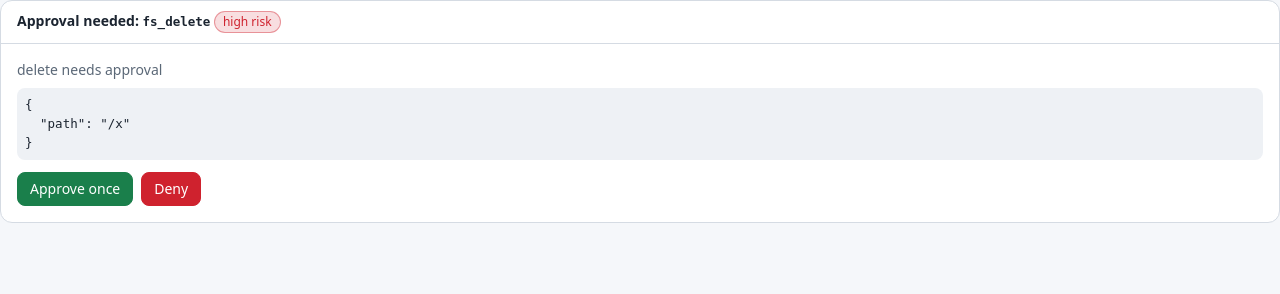
Test: Approvals › shows API errors
This screenshot has width=1280, height=294.
Click the button "Approve once" at (75, 189), box [17,172,133,206]
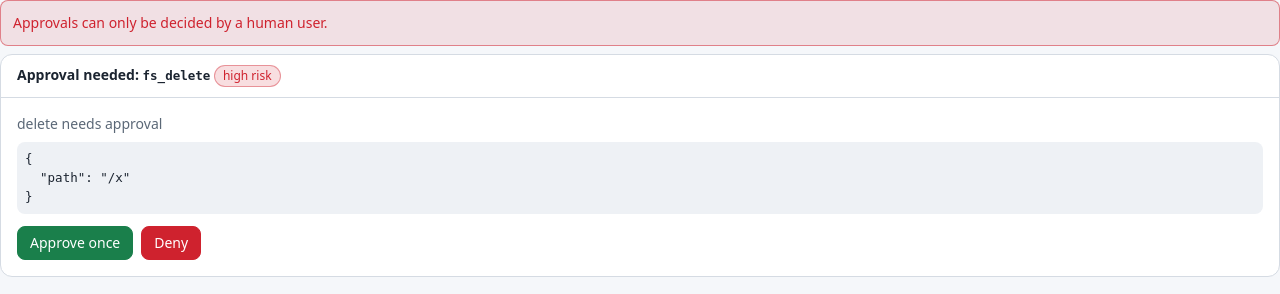
expect the message shows "only be decided by a human": met, box [13,13,328,32]
